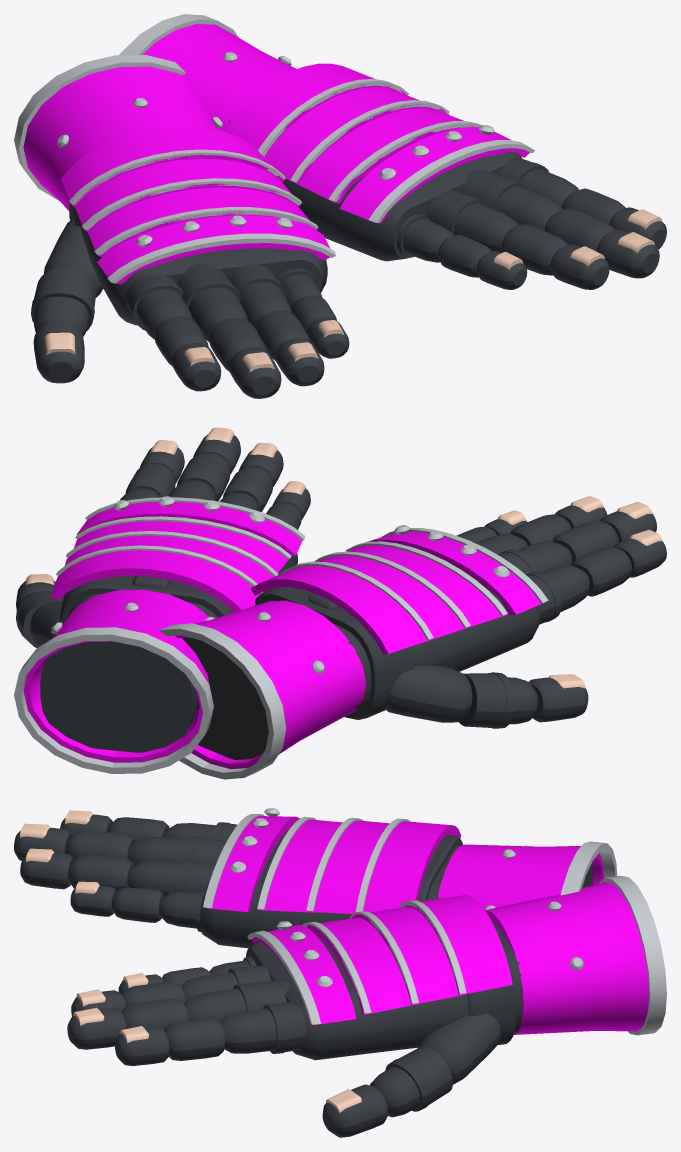
Rendered from objet_armure2_gants.glb.
The picture shows the model from 3 angles, top to bottom: view 1: azimuth 30°, elevation 25°; view 2: azimuth 150°, elevation 25°; view 3: azimuth 270°, elevation 25°; orthographic projection. The views are drawn at different scales.
Visible parts, largest first — view 1: main__gantelet_teinte.022, main__gantelet_teinte.021, manchette__gantelet_teinte.022, main__gantelet_rivet.014, manchette__gantelet_teinte.021, main__gantelet_rivet.013, main.021, main.022, pouce_2.022, manchette__gantelet_rivet.010, annulaire_1.021, majeur_1.021 (+25 smaller); view 2: main__gantelet_teinte.022, main__gantelet_teinte.021, manchette.021, manchette__gantelet_teinte.022, main.022, manchette__gantelet_teinte.021, manchette__gantelet_rivet.009, manchette.022, main__gantelet_rivet.013, main__gantelet_rivet.014, manchette__gantelet_rivet.010, pouce_1.022 (+25 smaller); view 3: manchette__gantelet_teinte.021, main__gantelet_teinte.021, main__gantelet_teinte.022, main.021, manchette__gantelet_teinte.022, main.022, main__gantelet_rivet.013, main__gantelet_rivet.014, pouce_2.021, index_1.021, manchette__gantelet_rivet.009, pouce_1.021 (+24 smaller).
Boxes of the visible parts, x1,y1,x2,y2 form: main__gantelet_teinte.022: (61, 126, 330, 284); main__gantelet_teinte.021: (223, 63, 529, 222); manchette__gantelet_teinte.022: (23, 66, 218, 211); main__gantelet_rivet.014: (69, 149, 336, 283); manchette__gantelet_teinte.021: (142, 23, 296, 131); main__gantelet_rivet.013: (258, 79, 534, 223); main.021: (228, 120, 522, 261); main.022: (69, 202, 327, 325); pouce_2.022: (31, 268, 96, 336); manchette__gantelet_rivet.010: (14, 55, 222, 200); annulaire_1.021: (426, 190, 518, 252); majeur_1.021: (461, 169, 562, 230); main__gantelet_teinte.022: (251, 531, 544, 654); main__gantelet_teinte.021: (50, 502, 302, 612); manchette.021: (40, 641, 197, 752); manchette__gantelet_teinte.022: (175, 600, 366, 769); main.022: (254, 587, 540, 719); manchette__gantelet_teinte.021: (23, 589, 211, 762); manchette__gantelet_rivet.009: (14, 602, 213, 773); manchette.022: (182, 637, 268, 759); main__gantelet_rivet.013: (56, 496, 305, 594); main__gantelet_rivet.014: (279, 525, 548, 639); manchette__gantelet_rivet.010: (159, 612, 324, 779); pouce_1.022: (385, 665, 472, 722); manchette__gantelet_teinte.021: (485, 882, 648, 1034); main__gantelet_teinte.021: (251, 894, 512, 1024); main__gantelet_teinte.022: (207, 816, 461, 913); main.021: (246, 930, 522, 1060); manchette__gantelet_teinte.022: (438, 844, 604, 908); main.022: (200, 823, 462, 948); main__gantelet_rivet.013: (247, 900, 466, 1024); main__gantelet_rivet.014: (203, 808, 410, 912); pouce_2.021: (370, 1046, 452, 1117); index_1.021: (220, 1002, 306, 1053); manchette__gantelet_rivet.009: (548, 875, 666, 1035); pouce_1.021: (418, 1014, 500, 1084).
Bounding box in the file's own units: 0.3286 × 0.0844 × 0.3517.
